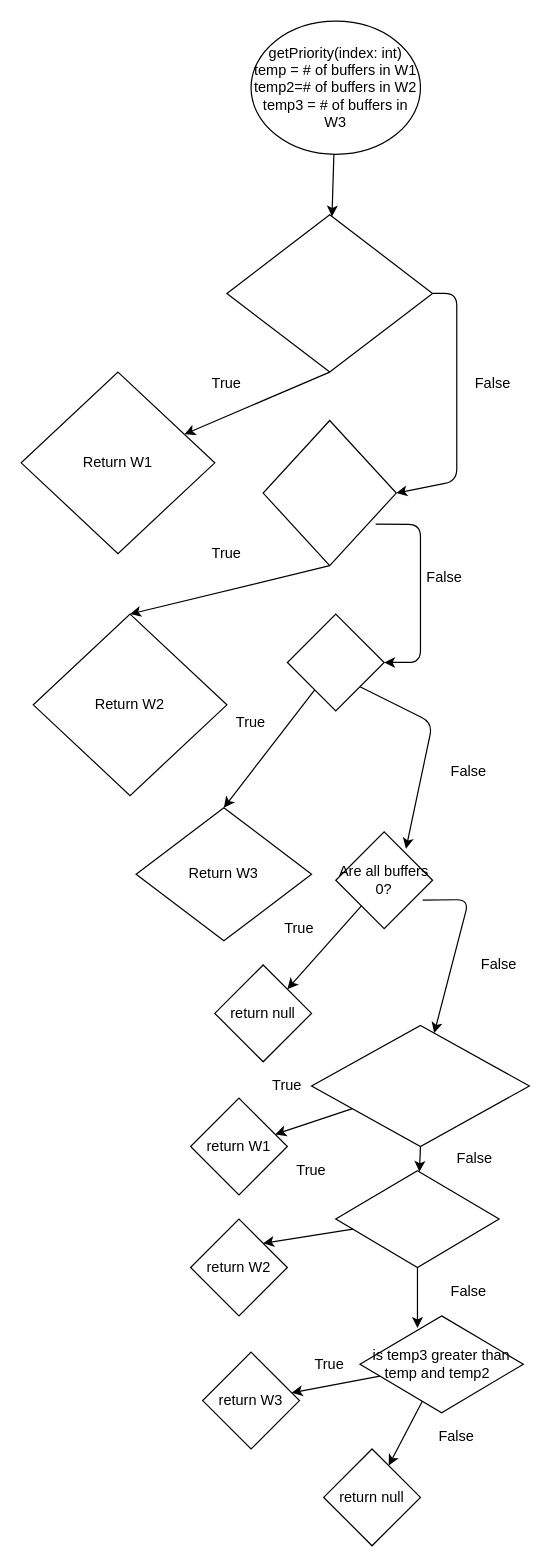
The diagram is 551 pixels wide and 1567 high, and some of its shapes have lost their labels. Here are the shapes that lost their labels. From the top down, the centre of each, then its label:
the point at 329,293: Is W1 not busy?
the point at 329,492: Is W2 not busy?
the point at 335,662: is W3 not busy?
the point at 419,1085: is temp greater than temp2 and temp3 or equal to temp2 and temp3?
the point at 417,1218: is temp2 greater than temp and temp3 or equal to temp3
